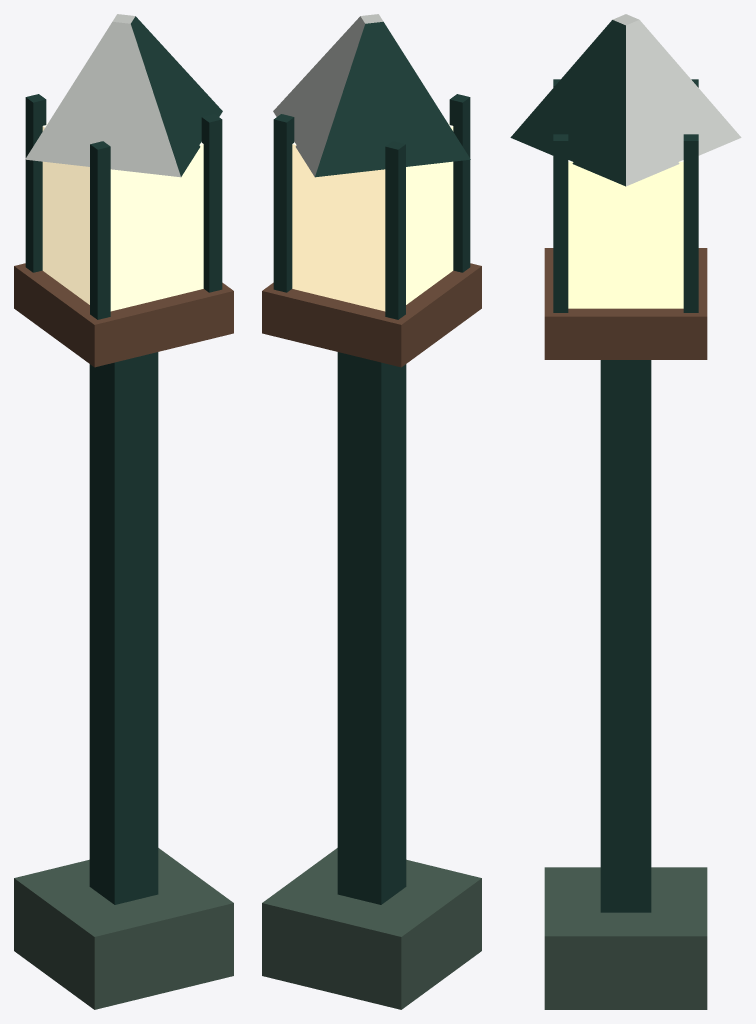
Rendered from trail-lantern.glb.
3 views of the same model, side by side, from view 1: azimuth 30°, elevation 25°; view 2: azimuth 150°, elevation 25°; view 3: azimuth 270°, elevation 25° (orthographic).
Parts seen in each view (by area): view 1: trail-lantern; view 2: trail-lantern; view 3: trail-lantern.
Boxes of the visible parts, x1,y1,x2,y2 form: trail-lantern: (14,14,233,1009); trail-lantern: (262,14,481,1009); trail-lantern: (510,14,741,1009).
Size of the model in its own units: 0.6816 by 3.11 by 0.6816.
